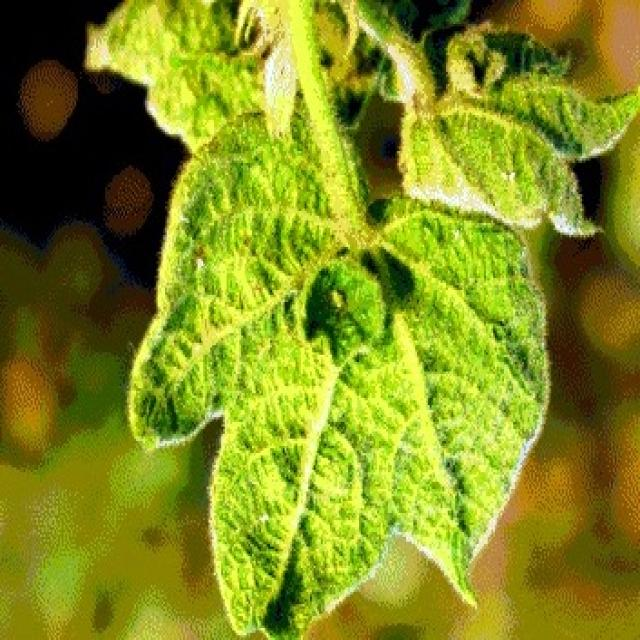Leaf Curl Virus: (126, 12, 533, 517)
